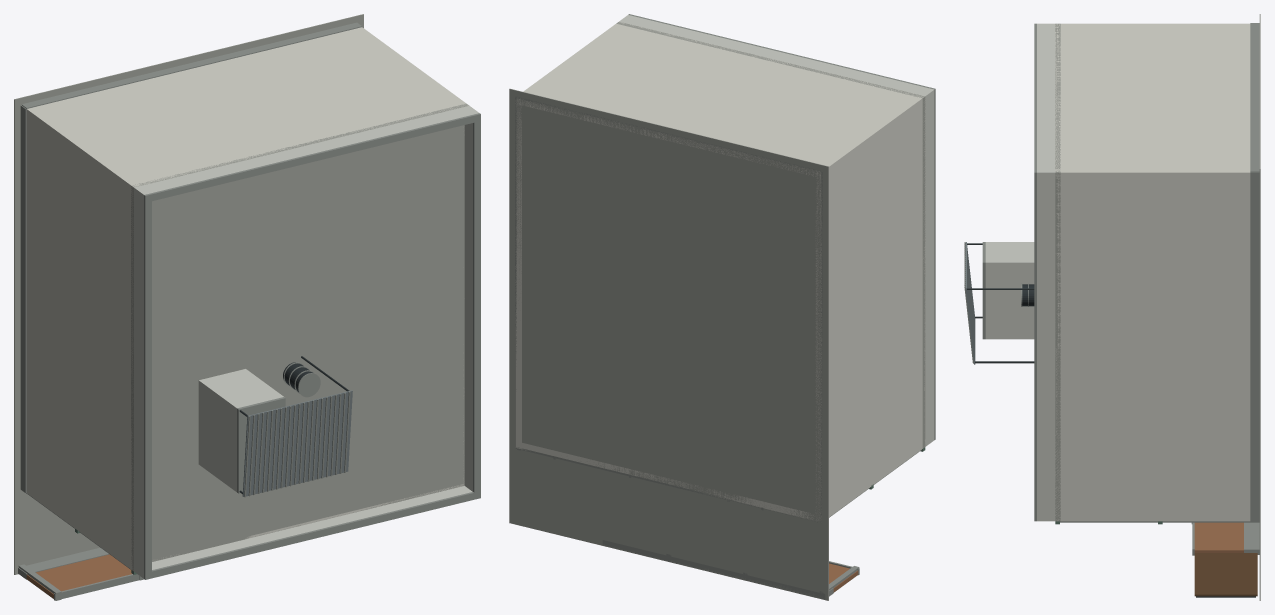
The model's file is 02_courtyard.obj.
3 renders of one model, left to right at view 1: azimuth 30°, elevation 25°; view 2: azimuth 150°, elevation 25°; view 3: azimuth 270°, elevation 25°, orthographic. The views are drawn at different scales.
Visible parts, largest first — view 1: roof_slab_1776, wall_12, wall_1752, parapet_1788, parapet_cap_1820, lot_paving_0, canopy_sheet_1908, rooftop_room_1852, plinth_24, plinth_1764, boundary_wall_4016, rooftop_room_cap_1884 (+2 smaller); view 2: lot_paving_0, wall_12, wall_1752, parapet_1788, wall_1728, roof_slab_1776, boundary_base_3968, parapet_cap_1820, plinth_1740, plinth_1668; view 3: wall_1728, wall_1752, parapet_1788, rooftop_room_1852, plinth_1740, roof_slab_1776, gate_7472, boundary_wall_4016, plinth_1764, parapet_cap_1820, lot_paving_0, wall_12 (+2 smaller).
Boxes of the visible parts, x1=… form: roof_slab_1776: x1=131, y1=103, x2=469, y2=571; wall_12: x1=26, y1=107, x2=140, y2=570; wall_1752: x1=27, y1=27, x2=467, y2=192; parapet_1788: x1=134, y1=106, x2=479, y2=578; parapet_cap_1820: x1=144, y1=113, x2=480, y2=579; lot_paving_0: x1=14, y1=14, x2=363, y2=574; canopy_sheet_1908: x1=242, y1=390, x2=352, y2=496; rooftop_room_1852: x1=198, y1=369, x2=283, y2=491; plinth_24: x1=20, y1=105, x2=26, y2=492; plinth_1764: x1=21, y1=22, x2=362, y2=108; boundary_wall_4016: x1=26, y1=554, x2=131, y2=598; rooftop_room_cap_1884: x1=237, y1=397, x2=285, y2=493; lot_paving_0: x1=509, y1=88, x2=828, y2=600; wall_12: x1=815, y1=95, x2=925, y2=520; wall_1752: x1=515, y1=24, x2=921, y2=176; parapet_1788: x1=619, y1=15, x2=934, y2=446; wall_1728: x1=515, y1=22, x2=624, y2=448; roof_slab_1776: x1=616, y1=21, x2=925, y2=448; boundary_base_3968: x1=602, y1=540, x2=833, y2=599; parapet_cap_1820: x1=628, y1=14, x2=935, y2=439; plinth_1740: x1=515, y1=97, x2=516, y2=447; plinth_1668: x1=515, y1=447, x2=815, y2=521; wall_1728: x1=1055, y1=169, x2=1250, y2=521; wall_1752: x1=1055, y1=23, x2=1250, y2=178; parapet_1788: x1=1037, y1=23, x2=1055, y2=521; rooftop_room_1852: x1=985, y1=242, x2=1034, y2=339; plinth_1740: x1=1250, y1=172, x2=1259, y2=521; roof_slab_1776: x1=1055, y1=23, x2=1060, y2=521; gate_7472: x1=1194, y1=553, x2=1257, y2=596; boundary_wall_4016: x1=1194, y1=522, x2=1243, y2=552; plinth_1764: x1=1250, y1=23, x2=1259, y2=172; parapet_cap_1820: x1=1034, y1=23, x2=1036, y2=521; lot_paving_0: x1=1259, y1=14, x2=1260, y2=600; wall_12: x1=1055, y1=23, x2=1250, y2=26.
Size of the model in its own units: 10 by 13 by 8.07.
